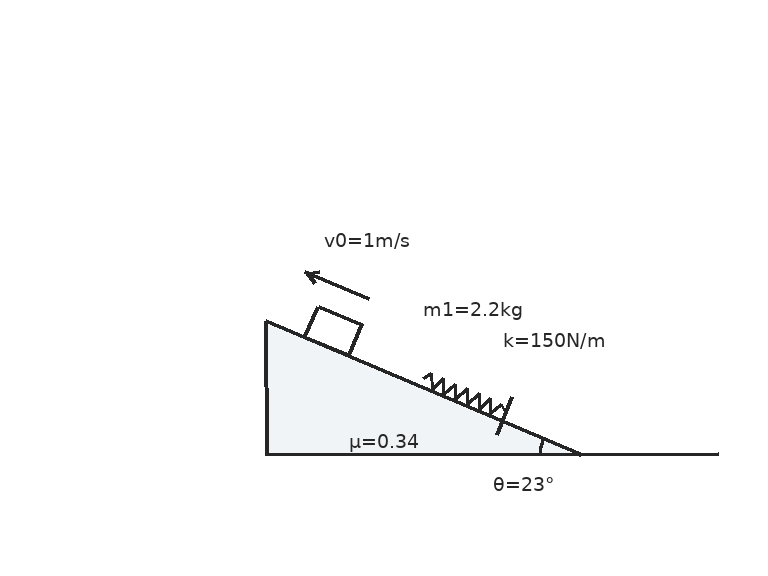block: (303, 304, 363, 357)
ramp: (263, 318, 582, 456)
spring: (421, 372, 507, 416)
